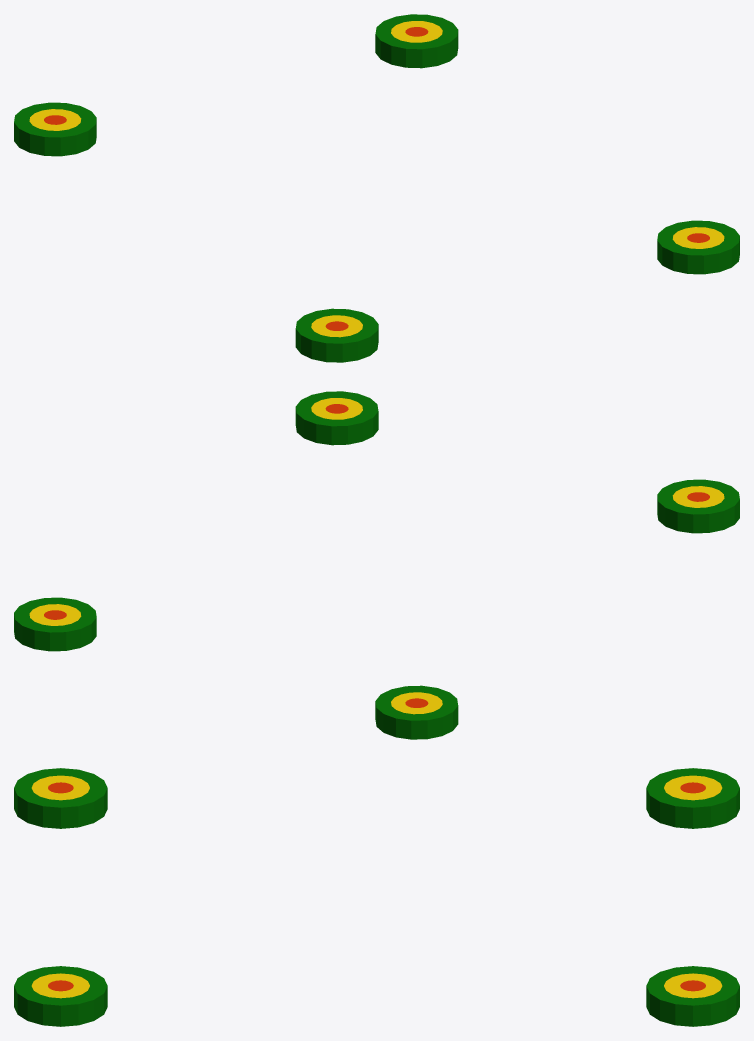
The model's file is JumpPads.fbx.
3 renders of one model, top to bottom at view 1: azimuth 30°, elevation 25°; view 2: azimuth 150°, elevation 25°; view 3: azimuth 270°, elevation 25°, orthographic. The views are drawn at different scales.
Visible parts, largest first — view 1: J2, J3, J1, J4; view 2: J1, J4, J2, J3; view 3: J1, J2, J3, J4.
Boxes of the visible parts, x1=… form: J2: x1=295, y1=308, x2=378, y2=362; J3: x1=375, y1=14, x2=458, y2=68; J1: x1=14, y1=102, x2=96, y2=156; J4: x1=657, y1=220, x2=739, y2=274; J1: x1=375, y1=685, x2=458, y2=739; J4: x1=295, y1=391, x2=378, y2=445; J2: x1=657, y1=479, x2=739, y2=533; J3: x1=14, y1=597, x2=96, y2=651; J1: x1=646, y1=768, x2=739, y2=828; J2: x1=14, y1=768, x2=107, y2=828; J3: x1=646, y1=966, x2=739, y2=1026; J4: x1=14, y1=966, x2=107, y2=1026.
Size of what is drawn, in the model's own units: 240 by 10 by 310.
